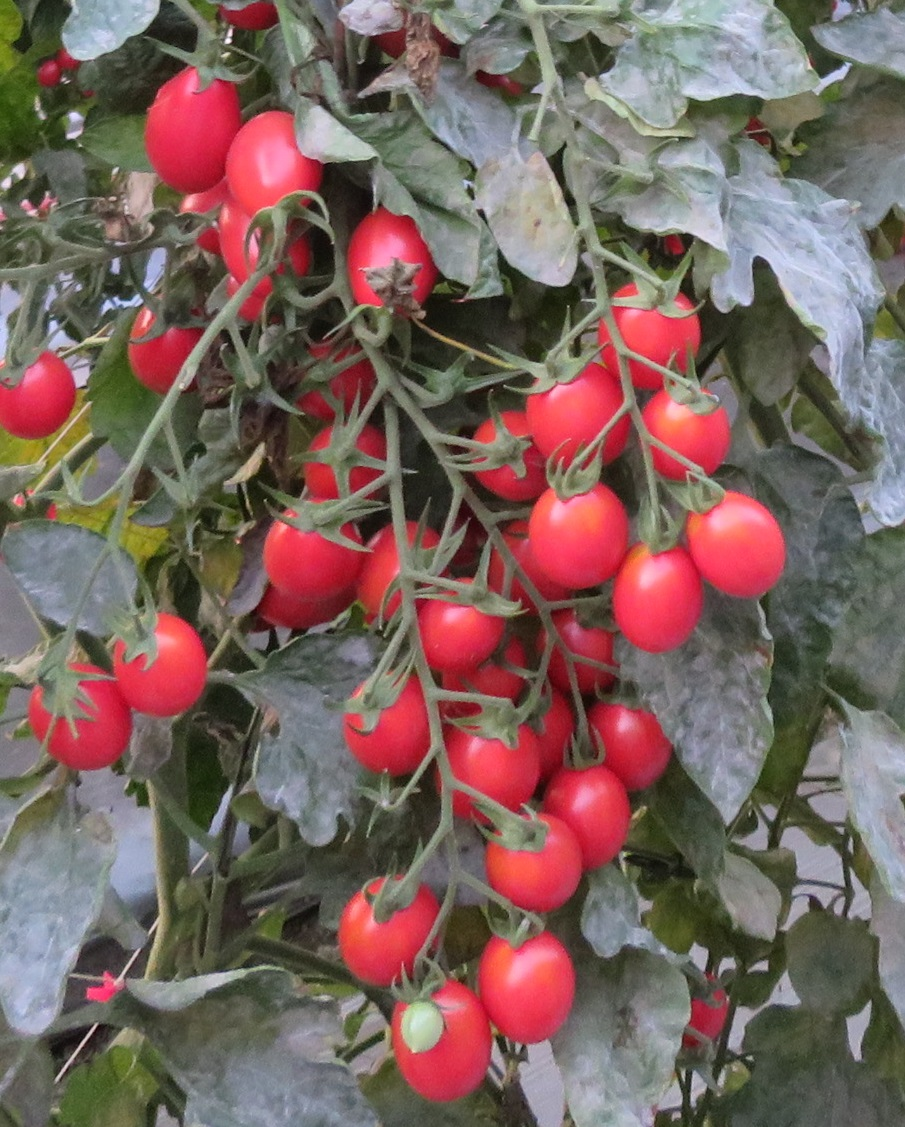green: (398, 1000, 447, 1056)
red: (392, 979, 494, 1110), (681, 485, 792, 605), (530, 363, 635, 475), (142, 66, 237, 188), (101, 613, 211, 717), (338, 874, 437, 987), (524, 490, 635, 590), (482, 929, 575, 1048), (617, 548, 716, 655), (31, 671, 130, 777), (437, 723, 542, 821), (357, 518, 456, 621), (259, 507, 361, 605), (646, 380, 732, 491), (485, 816, 582, 914), (228, 111, 324, 209), (542, 768, 633, 867), (607, 300, 704, 387), (339, 679, 430, 771), (350, 217, 437, 310), (532, 606, 620, 692), (220, 213, 311, 296), (591, 697, 672, 789), (1, 346, 76, 440), (414, 591, 501, 671), (298, 433, 388, 510), (292, 335, 375, 417), (126, 304, 198, 396), (456, 411, 524, 498), (512, 691, 575, 760), (676, 975, 728, 1049), (37, 60, 60, 84)
